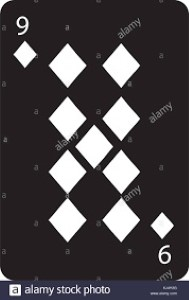NineOfDiamonds: (1, 1, 189, 280)
